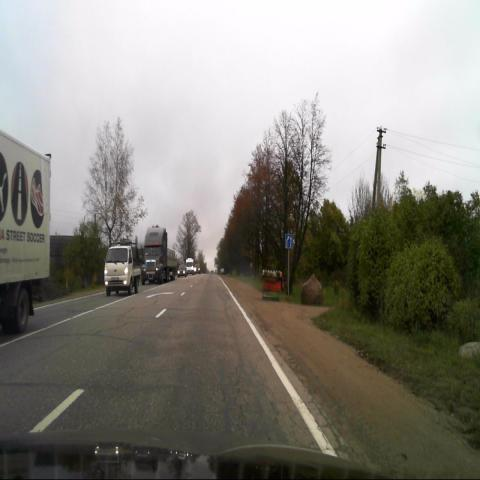5_15_5: (285, 234, 292, 248)
